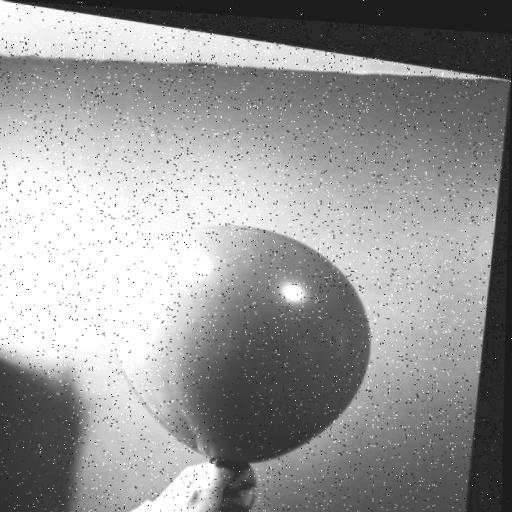balloon: (105, 200, 384, 476)
